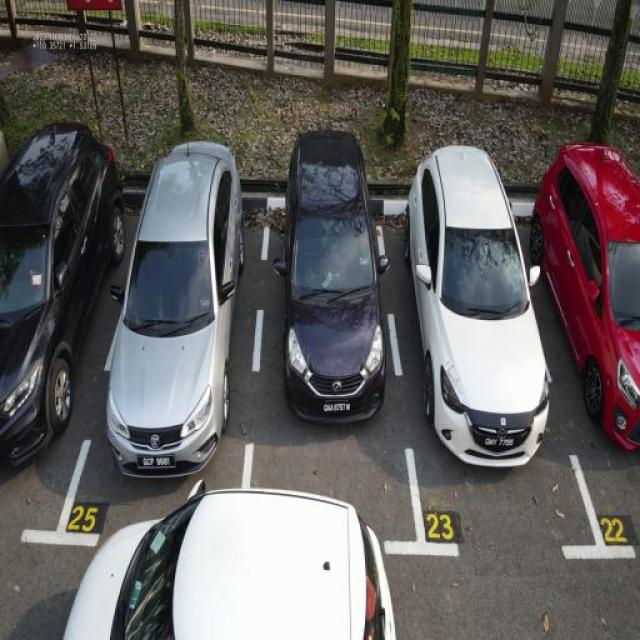Legalparking: (0, 106, 640, 485)
illegalparking: (59, 453, 416, 640)
